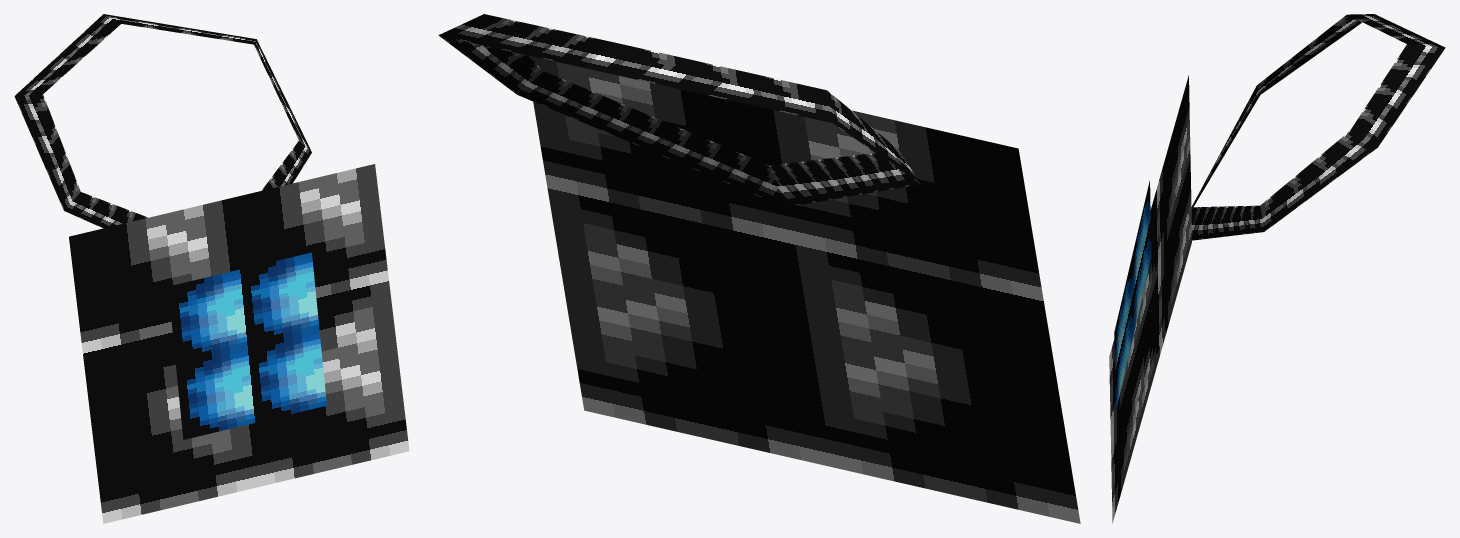
Rendered from 0160uma_neck.gltf.
The picture shows the model from 3 angles, left to right: view 1: azimuth 30°, elevation 25°; view 2: azimuth 150°, elevation 25°; view 3: azimuth 270°, elevation 25°; orthographic projection. The views are drawn at different scales.
Parts seen in each view (by area): view 1: 0160uma_neck; view 2: 0160uma_neck; view 3: 0160uma_neck.
Boxes of the visible parts, left/top/right/bottom form: 0160uma_neck: left=14, top=14, right=409, bottom=523; 0160uma_neck: left=438, top=14, right=1080, bottom=523; 0160uma_neck: left=1109, top=14, right=1445, bottom=523.
Bounding box in the file's own units: 0.3271 × 0.3691 × 0.2825.
Materials: 2 (2 with a texture image).
